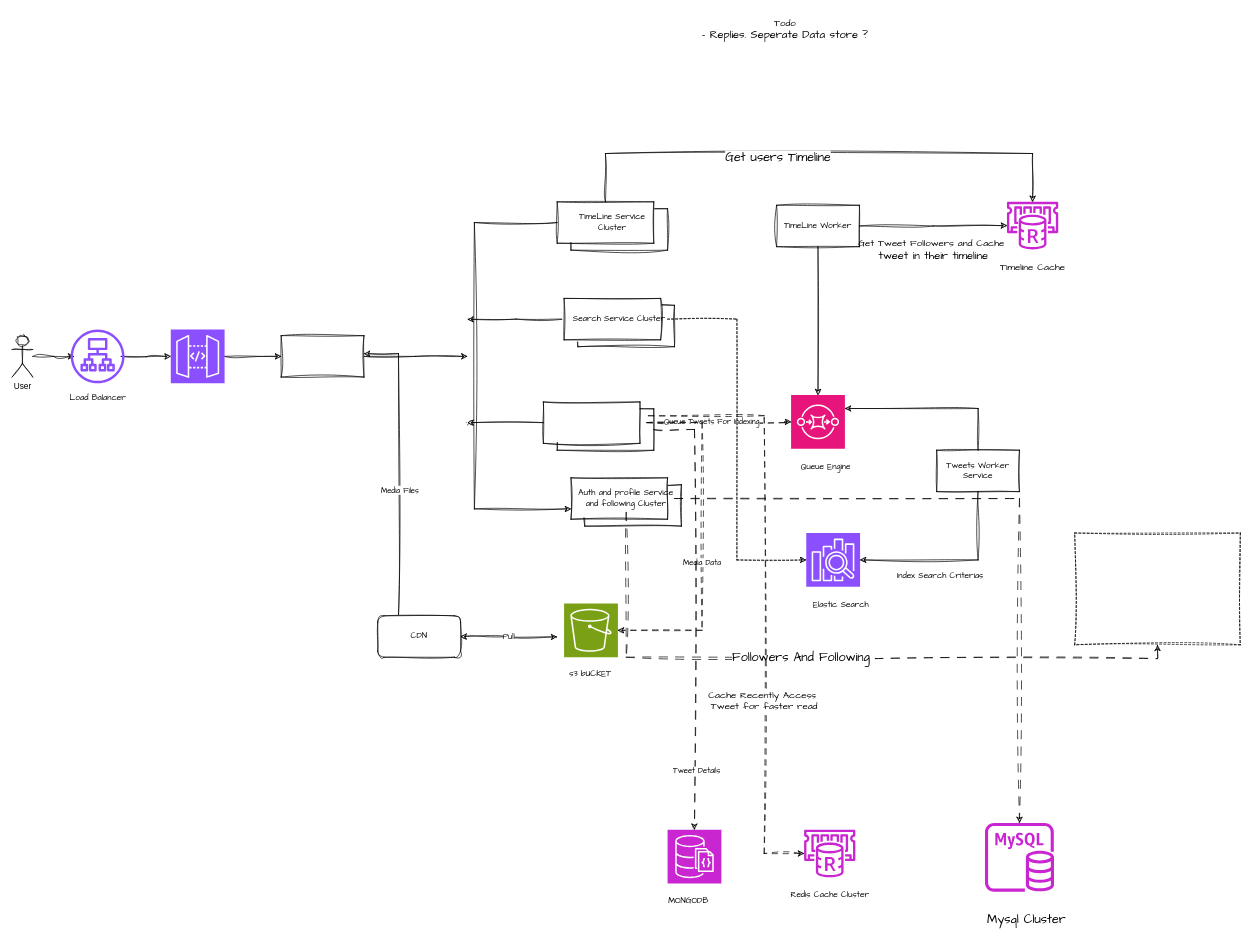
This 1252x945 diagram has some shape labels left out. The shapes that lost their labels are listed below. From the top down, each one's centre as x and y in pixels, then its label:
At [322,356]: "Application Rate Limiter".
At [591,422]: "Tweets Service Cluster".
At [1157,588]: "Graph Database to handle relationships and system recommendations".
